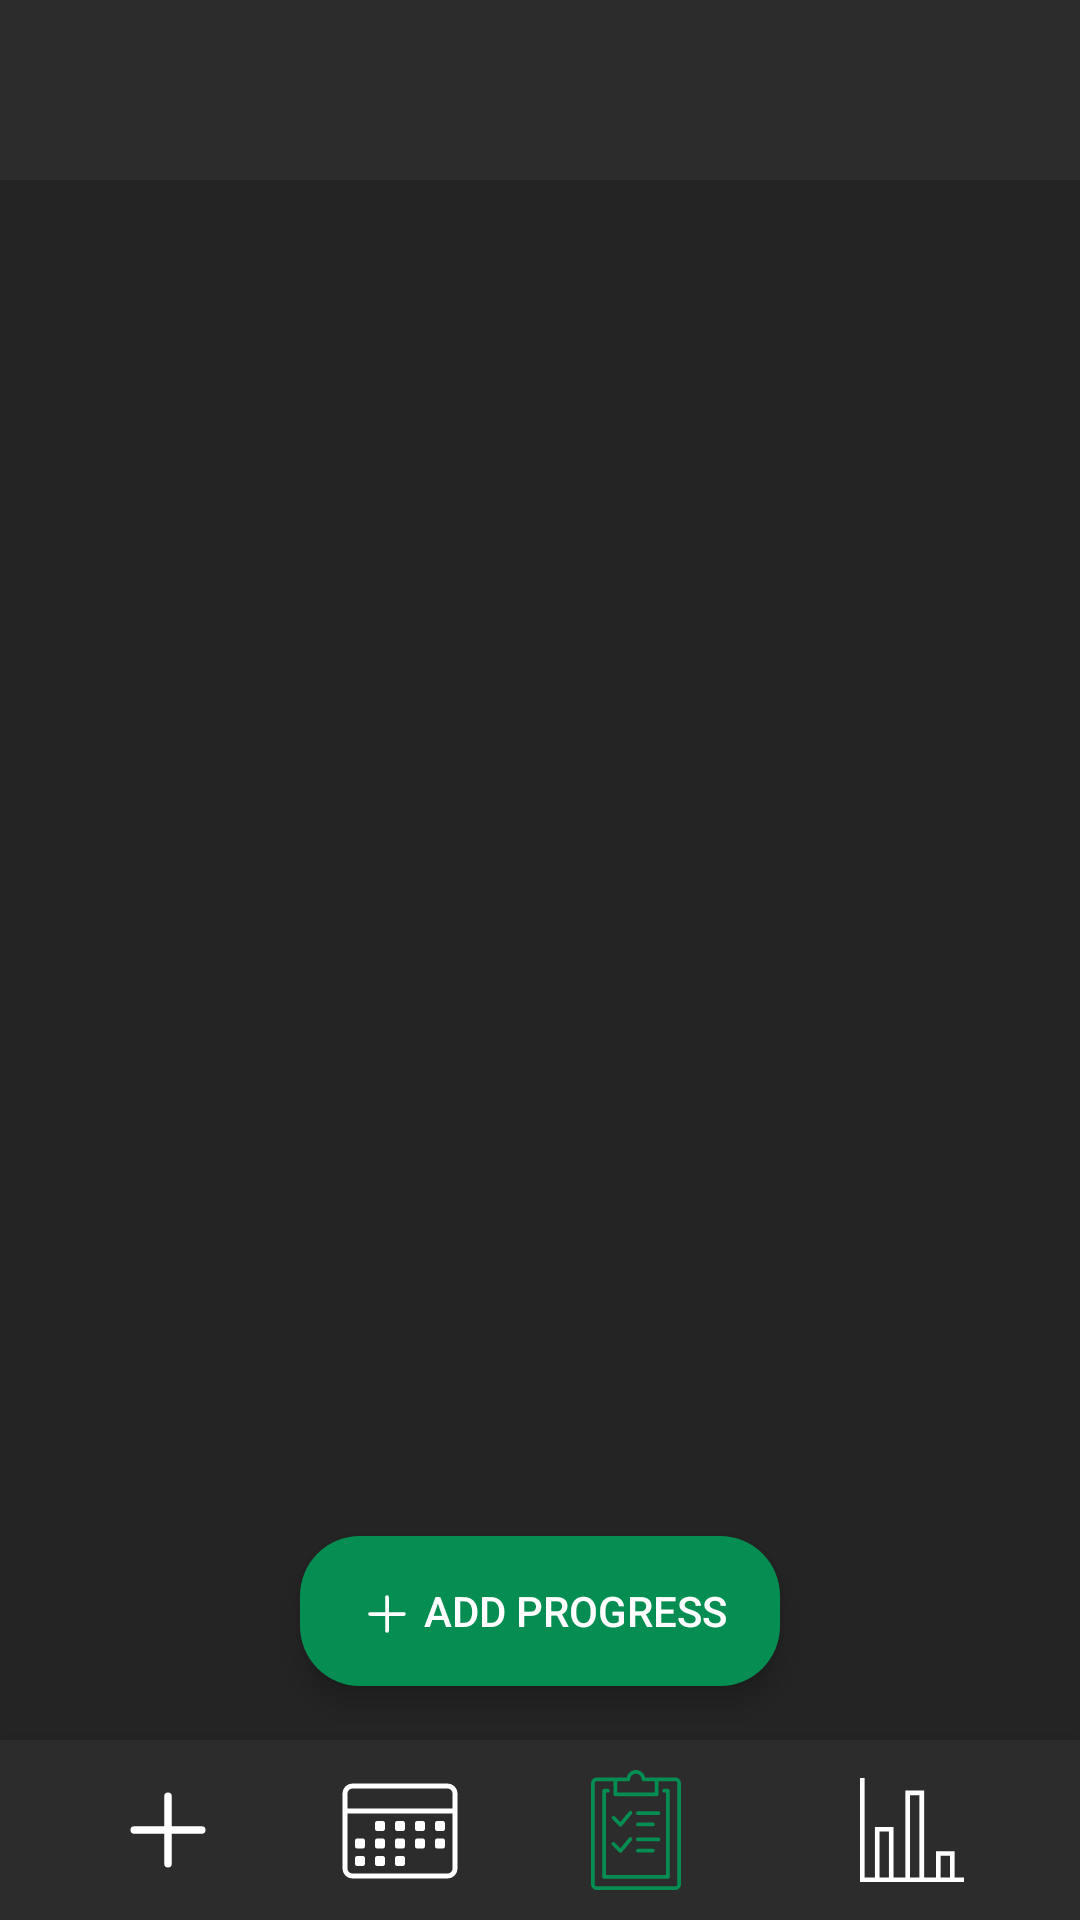

Screen size 1080 x 1920. Icon name, then its center in pixels as point (x, y):
plusicon: point (387, 1614), point (168, 1830)
progressactive: point (636, 1830)
report: point (912, 1830)
schedule: point (400, 1831)
